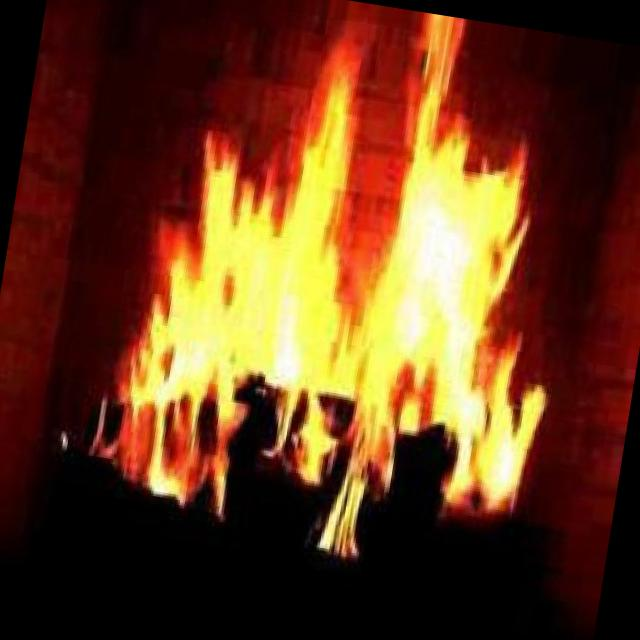Fire: (60, 0, 615, 609)
